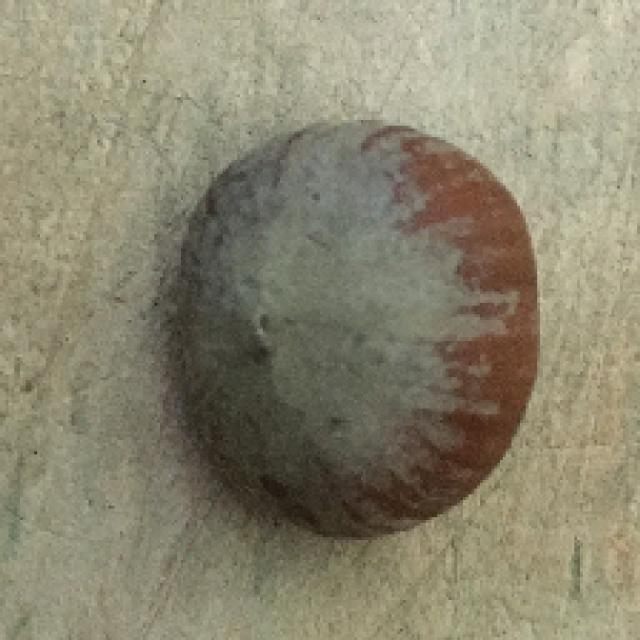qualityHazelnut: (163, 117, 536, 543)
